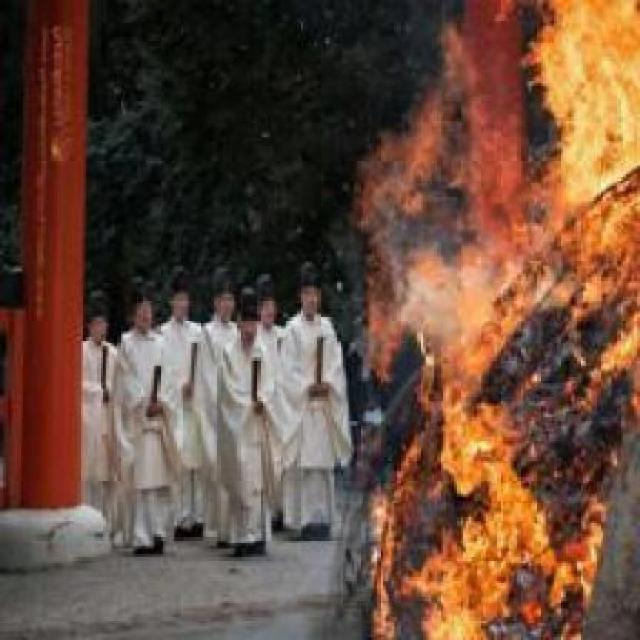Fire: (342, 3, 640, 640)
